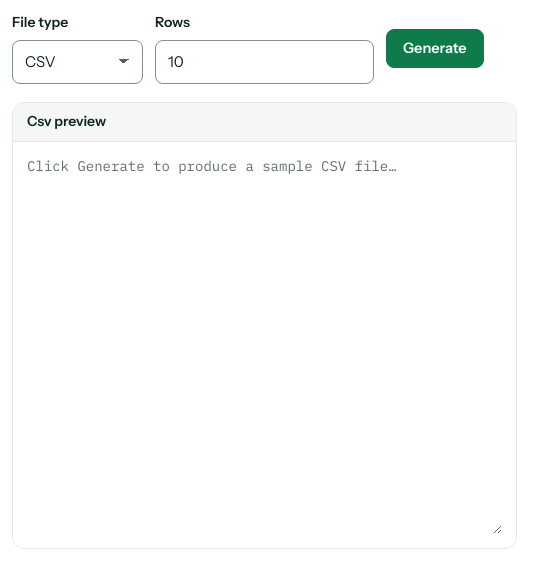
Test: FileGenerators › generates valid JSON array for JSON type
Select "JSON" in the dropdown at (78, 62), box [12,40,143,84]
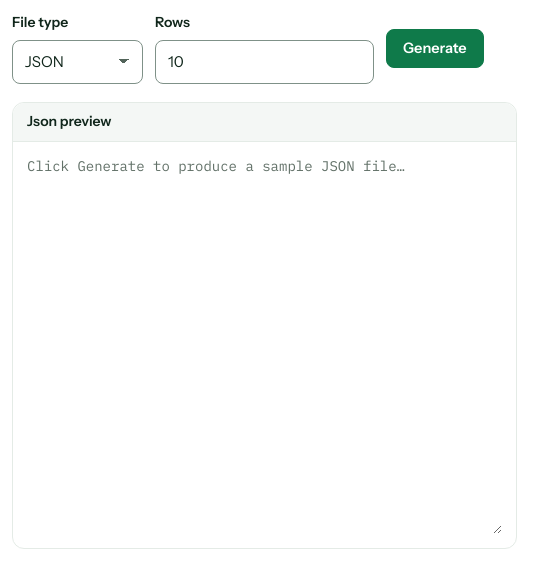
Type "3" into the number field with placeholder "10" at (264, 62), box [155,40,374,84]
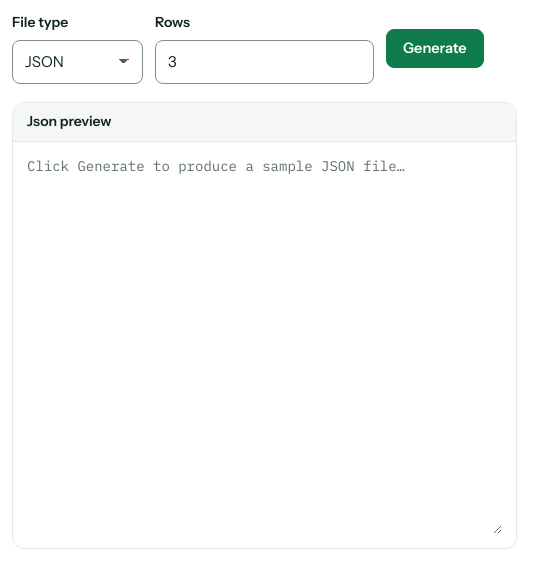
Click the button "Generate" at (435, 48), box [386,29,484,68]
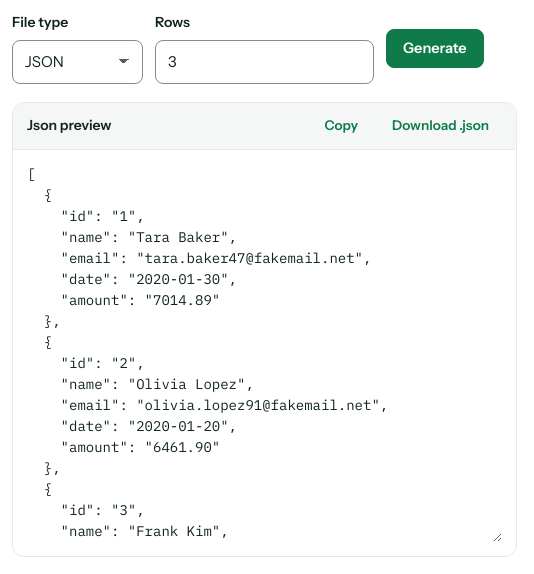
Check: the text box is not empty, box [27,164,502,542]
